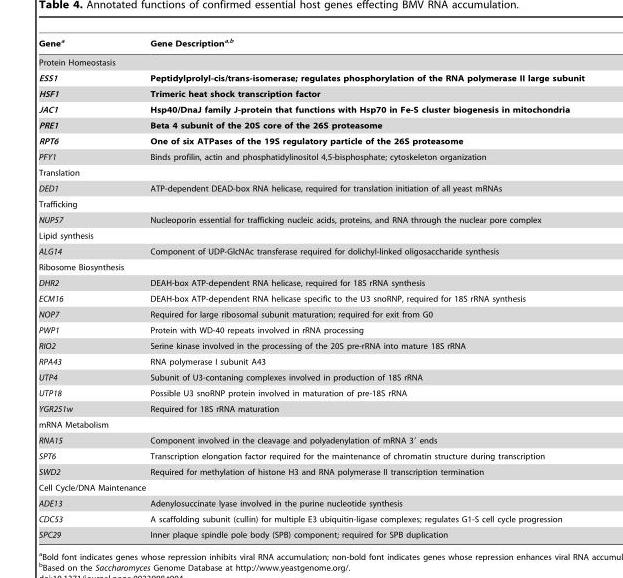table: (37, 37, 583, 538)
table column: (121, 37, 583, 538), (37, 37, 121, 538)
table column header: (37, 37, 583, 52)
table projected row header: (37, 52, 583, 70), (37, 164, 583, 180), (37, 227, 583, 243), (37, 416, 583, 432), (37, 479, 583, 495), (37, 196, 583, 211), (37, 259, 583, 274)
table row: (37, 52, 583, 70), (37, 85, 583, 101), (37, 101, 583, 117), (37, 117, 583, 133), (37, 148, 583, 164), (37, 164, 583, 180), (37, 180, 583, 196), (37, 211, 583, 227), (37, 227, 583, 243), (37, 243, 583, 259), (37, 274, 583, 290), (37, 290, 583, 306), (37, 306, 583, 322), (37, 337, 583, 353), (37, 353, 583, 369), (37, 369, 583, 385), (37, 400, 583, 416), (37, 416, 583, 432), (37, 432, 583, 448), (37, 463, 583, 479), (37, 479, 583, 495), (37, 495, 583, 511), (37, 37, 583, 52), (37, 70, 583, 85), (37, 133, 583, 148), (37, 196, 583, 211), (37, 259, 583, 274), (37, 322, 583, 337), (37, 385, 583, 400), (37, 448, 583, 463), (37, 511, 583, 526), (37, 526, 583, 538)
